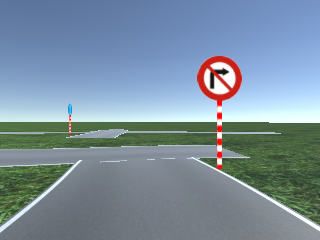5: (1, 196, 320, 239)
NoRight: (196, 55, 244, 101)
